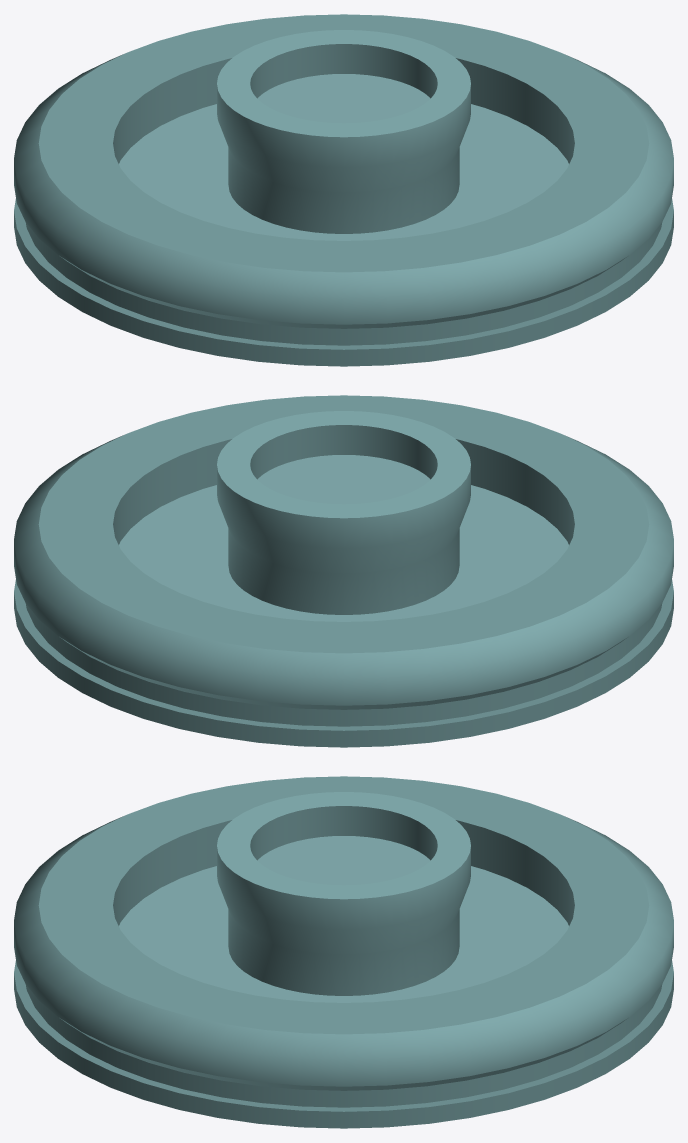
The model's file is fountain.glb.
The picture shows the model from 3 angles, top to bottom: view 1: azimuth 30°, elevation 25°; view 2: azimuth 150°, elevation 25°; view 3: azimuth 270°, elevation 25°; orthographic projection.
Visible parts, largest first — view 1: fountain; view 2: fountain; view 3: fountain.
Part boxes in pixels (bbox=[...]): fountain: bbox=[14, 14, 673, 366]; fountain: bbox=[14, 395, 673, 747]; fountain: bbox=[14, 776, 673, 1128].
Bounding box in the file's own units: 5.83 × 1.4 × 5.83.
